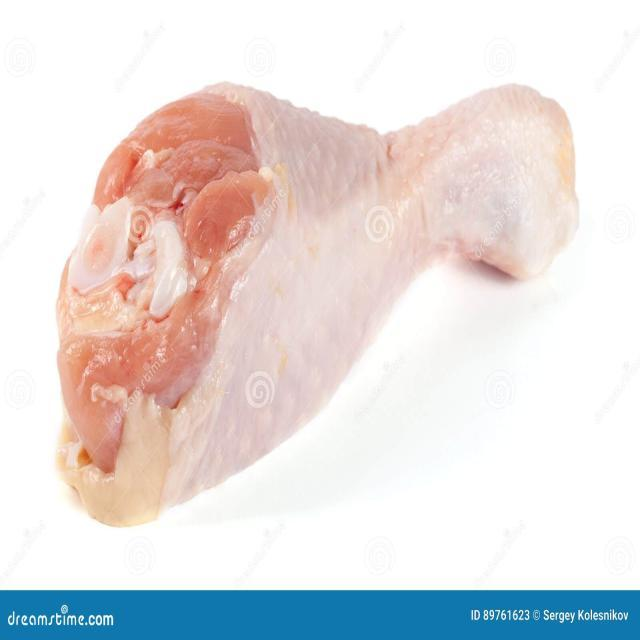leg: (35, 78, 586, 526)
